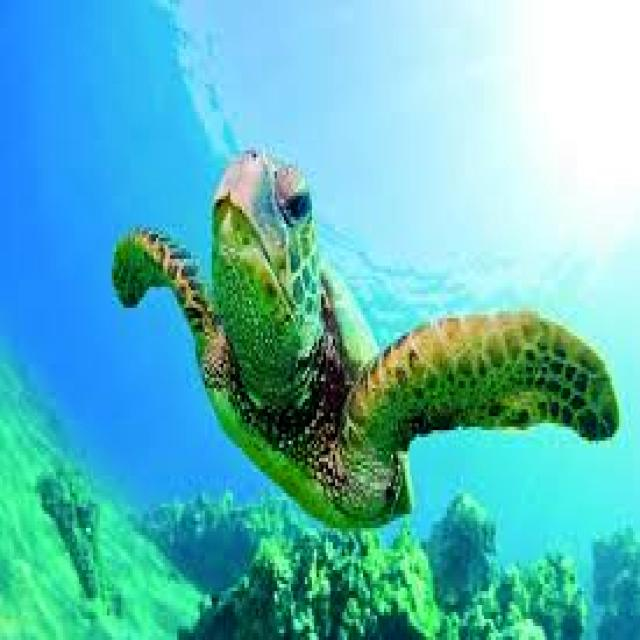Sea turtle: (105, 135, 626, 536)
